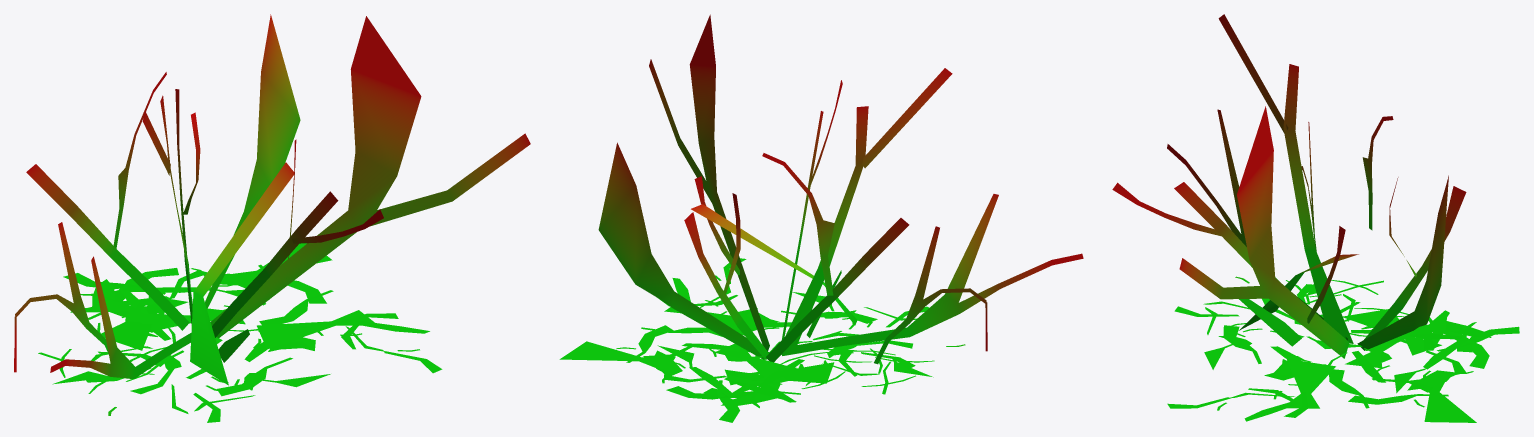
The model's file is Dead Shrubs_LOD2_Var12_vdknbbuha.fbx.
3 renders of one model, left to right at view 1: azimuth 30°, elevation 25°; view 2: azimuth 150°, elevation 25°; view 3: azimuth 270°, elevation 25°, orthographic. The views are drawn at different scales.
Visible parts, largest first — view 1: _rr47_Var12_LOD2; view 2: _rr47_Var12_LOD2; view 3: _rr47_Var12_LOD2.
Part boxes in pixels (x1,y1,x2,y2): _rr47_Var12_LOD2: (14,14,530,422); _rr47_Var12_LOD2: (559,14,1083,422); _rr47_Var12_LOD2: (1112,14,1519,422).
Size of the model in its own units: 64.32 by 41.68 by 51.12.
